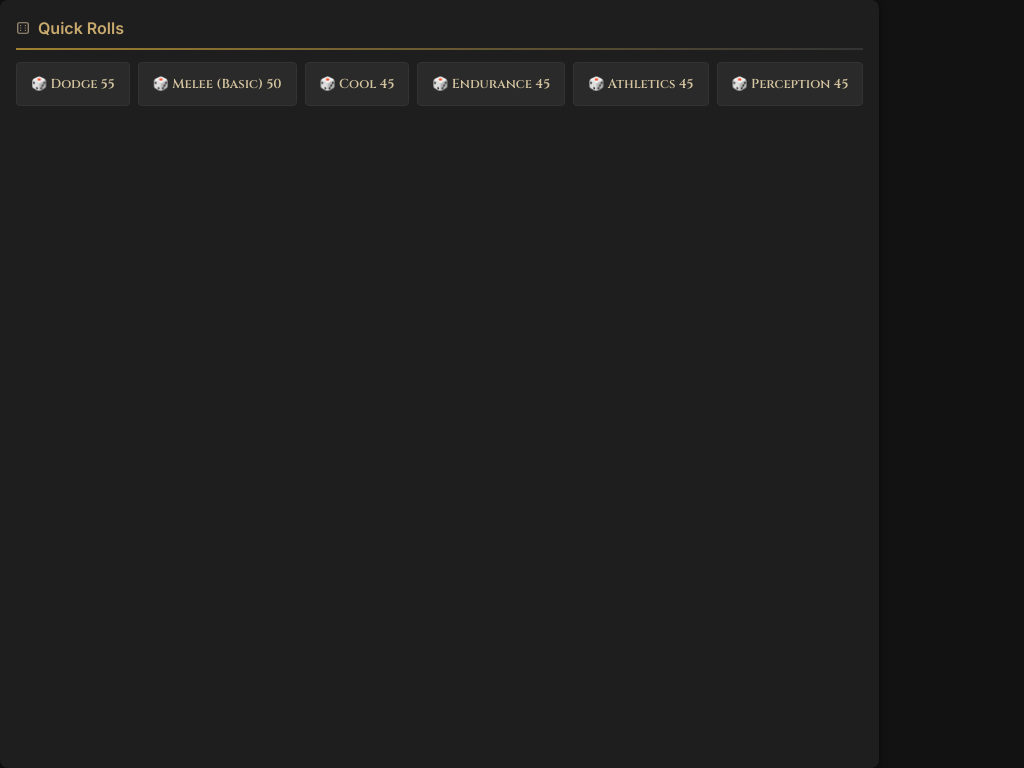
Test case: QuickRollBar — RollDialog › opens RollDialog when a skill button is tapped
The width and height of the screenshot is (1024, 768).
Click the button with aria-label "Roll Dodge": x=73, y=84 [16,62,130,106]
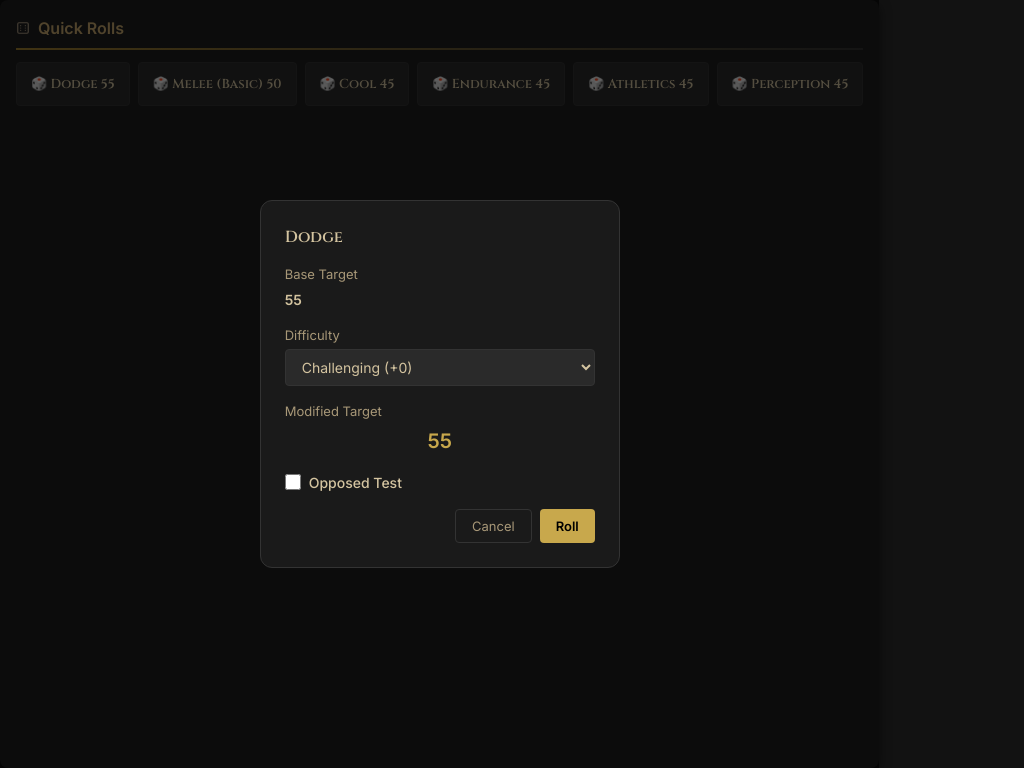
Check: the dialog named "Roll Dialog" is shown
Check: the heading "Dodge" is shown, box [285,226,343,248]
